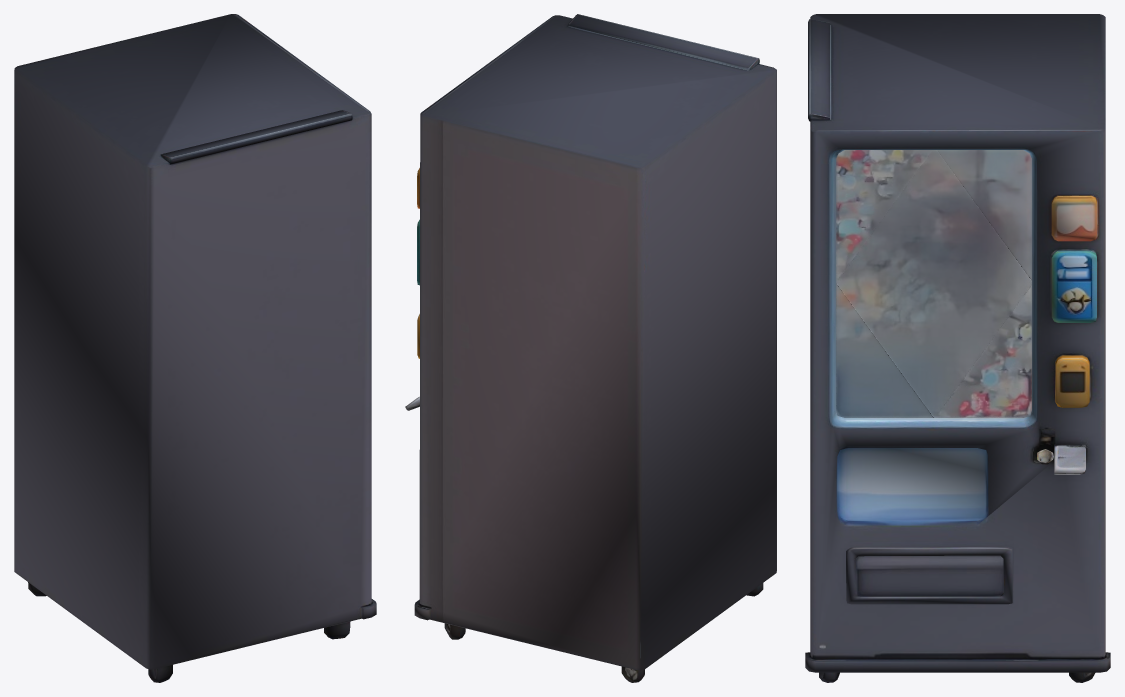
3 renders of one model, left to right at view 1: azimuth 30°, elevation 25°; view 2: azimuth 150°, elevation 25°; view 3: azimuth 270°, elevation 25°, orthographic. The views are drawn at different scales.
Parts seen in each view (by area): view 1: tripo_node_171fb5ae-130b-422e-a2bd-800086759121; view 2: tripo_node_171fb5ae-130b-422e-a2bd-800086759121; view 3: tripo_node_171fb5ae-130b-422e-a2bd-800086759121.
Part boxes in pixels (left/top/right/bottom): tripo_node_171fb5ae-130b-422e-a2bd-800086759121: left=14, top=14, right=376, bottom=682; tripo_node_171fb5ae-130b-422e-a2bd-800086759121: left=405, top=14, right=776, bottom=682; tripo_node_171fb5ae-130b-422e-a2bd-800086759121: left=805, top=14, right=1110, bottom=682.
Bounding box in the file's own units: 0.4902 × 0.998 × 0.4863.
1 material, 1 textured.
